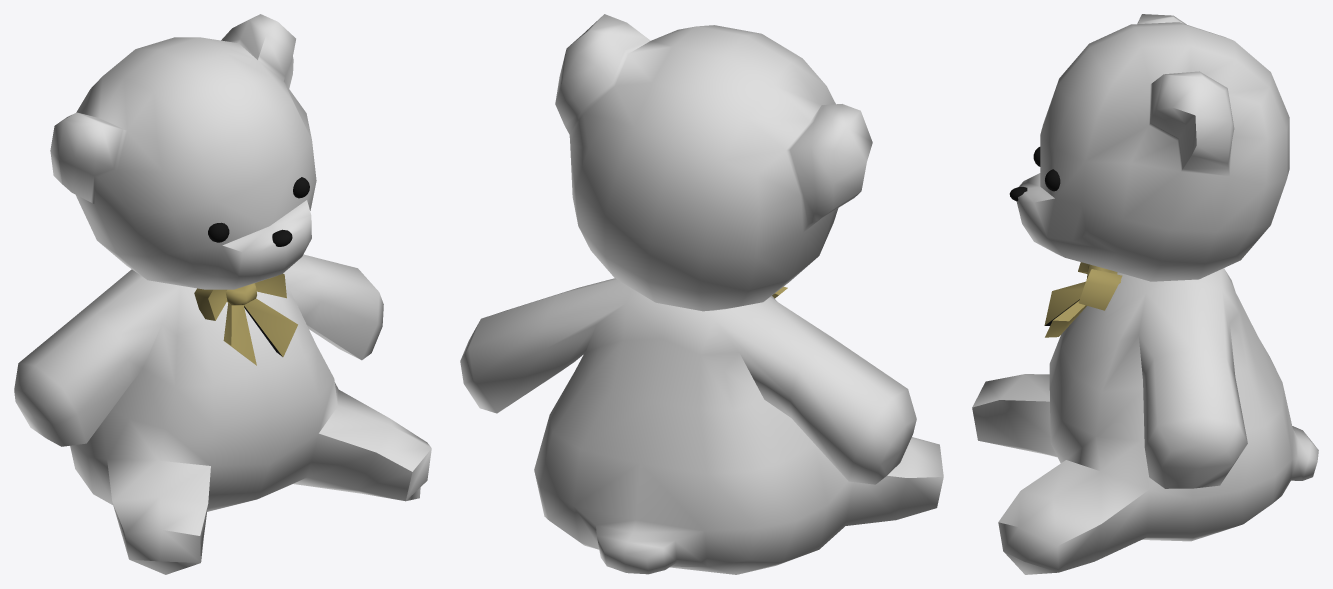
Rendered from NST_TeddyBear_Big.fbx.
3 views of the same model, side by side, from view 1: azimuth 30°, elevation 25°; view 2: azimuth 150°, elevation 25°; view 3: azimuth 270°, elevation 25° (orthographic). The views are drawn at different scales.
Visible parts, largest first — view 1: NST_TeddyBear; view 2: NST_TeddyBear; view 3: NST_TeddyBear.
Part boxes in pixels (x1,y1,x2,y2): NST_TeddyBear: (14,14,431,574); NST_TeddyBear: (460,14,943,574); NST_TeddyBear: (972,14,1318,574).
Bounding box in the file's own units: 0.6094 × 0.7149 × 0.4814.
